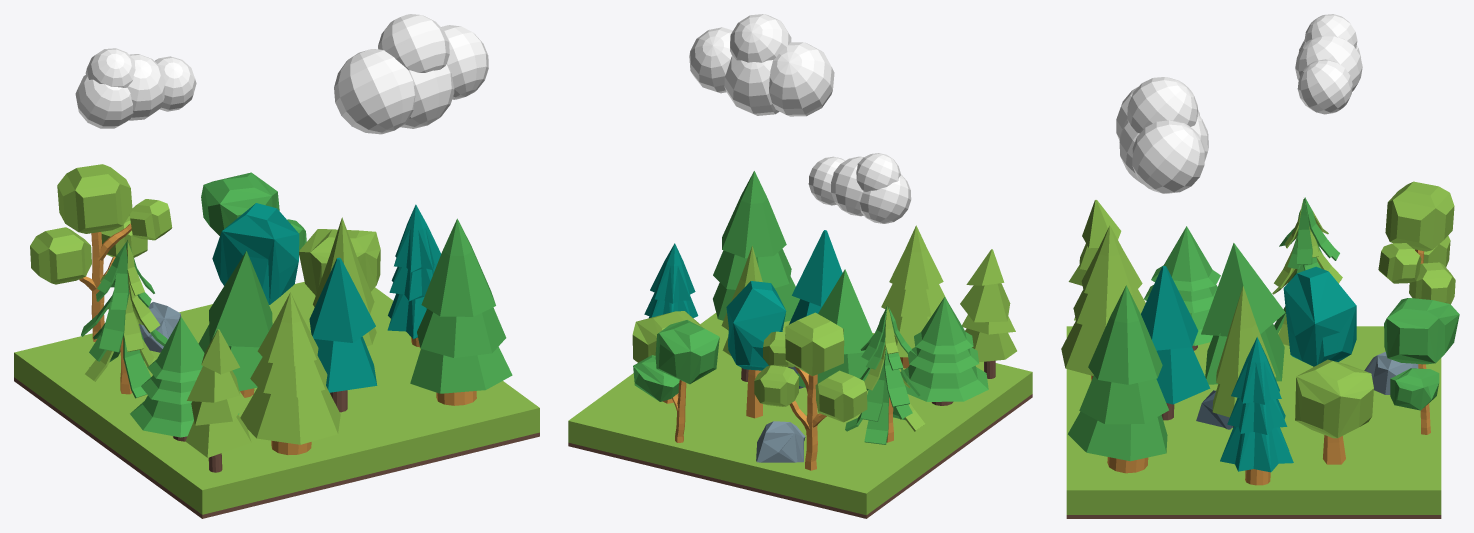
File: Tree Assets.glb
3 renders of one model, left to right at view 1: azimuth 30°, elevation 25°; view 2: azimuth 150°, elevation 25°; view 3: azimuth 270°, elevation 25°, orthographic. The views are drawn at different scales.
Parts seen in each view (by area): view 1: group833803046, group1795976569, group720331588, group373735999, group1958235271, group601634601, group874600975, group2112331936, group1206298165, group1610579876, group546125134, group2102696020 (+5 smaller); view 2: group833803046, group1795976569, group373735999, group720331588, group2102696020, group601634601, group874600975, group1114869579, group1206298165, group1958235271, group1610579876, group546125134 (+5 smaller); view 3: group833803046, group720331588, group1795976569, group373735999, group1114869579, group100681590, group1206298165, group1932686607, group1958235271, group2112331936, group601634601, group546125134 (+6 smaller).
Part boxes in pixels (x1=…): group833803046: x1=14, y1=281, x2=539, y2=518; group1795976569: x1=334, y1=14, x2=488, y2=134; group720331588: x1=410, y1=218, x2=512, y2=405; group373735999: x1=30, y1=164, x2=172, y2=341; group1958235271: x1=240, y1=292, x2=340, y2=454; group601634601: x1=75, y1=48, x2=196, y2=128; group874600975: x1=81, y1=240, x2=167, y2=398; group2112331936: x1=309, y1=257, x2=377, y2=412; group1206298165: x1=212, y1=203, x2=299, y2=304; group1610579876: x1=185, y1=329, x2=251, y2=472; group546125134: x1=198, y1=251, x2=272, y2=397; group2102696020: x1=130, y1=317, x2=238, y2=441; group833803046: x1=568, y1=313, x2=1032, y2=518; group1795976569: x1=689, y1=14, x2=834, y2=116; group373735999: x1=754, y1=312, x2=867, y2=470; group720331588: x1=713, y1=171, x2=799, y2=321; group2102696020: x1=900, y1=297, x2=988, y2=405; group601634601: x1=808, y1=153, x2=911, y2=223; group874600975: x1=845, y1=306, x2=925, y2=444; group1114869579: x1=633, y1=320, x2=719, y2=442; group1206298165: x1=726, y1=281, x2=786, y2=418; group1958235271: x1=881, y1=225, x2=946, y2=368; group1610579876: x1=960, y1=249, x2=1016, y2=378; group546125134: x1=797, y1=269, x2=872, y2=387; group833803046: x1=1066, y1=326, x2=1441, y2=518; group720331588: x1=1068, y1=285, x2=1168, y2=473; group1795976569: x1=1116, y1=77, x2=1208, y2=193; group373735999: x1=1378, y1=181, x2=1455, y2=304; group1114869579: x1=1384, y1=298, x2=1459, y2=434; group100681590: x1=1220, y1=337, x2=1293, y2=485; group1206298165: x1=1283, y1=266, x2=1356, y2=366; group1932686607: x1=1295, y1=359, x2=1373, y2=464; group1958235271: x1=1061, y1=225, x2=1145, y2=380; group2112331936: x1=1141, y1=266, x2=1210, y2=420; group601634601: x1=1295, y1=14, x2=1362, y2=114; group546125134: x1=1201, y1=243, x2=1285, y2=384.
Bounding box in the file's own units: 0.8954 × 0.9811 × 0.8829.
